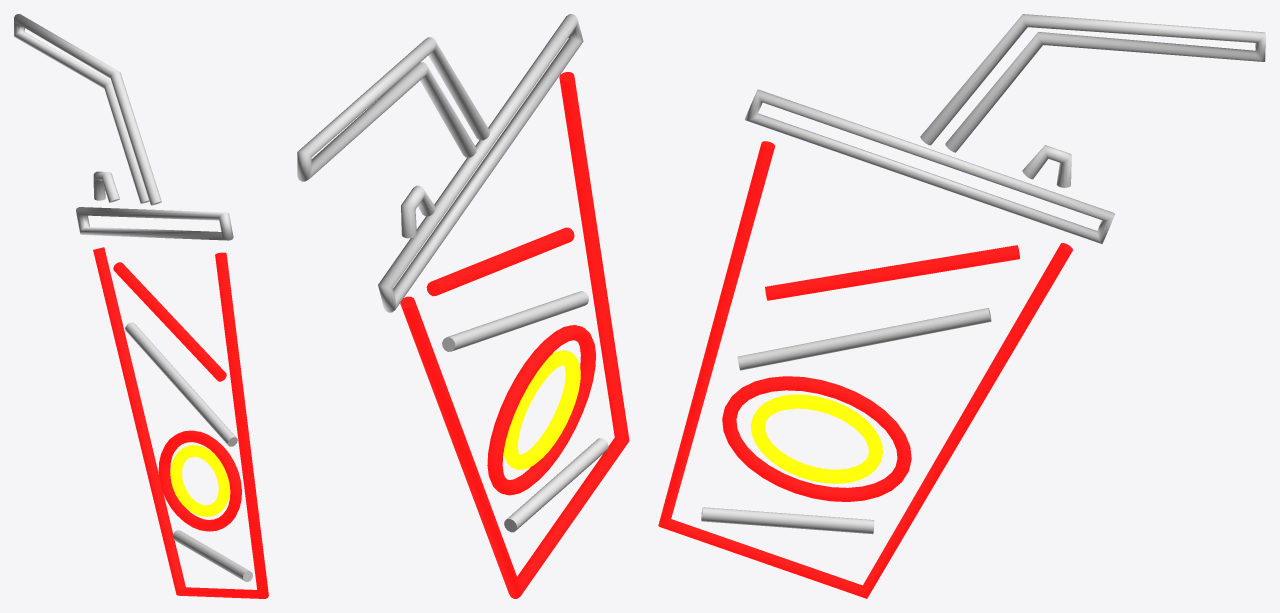
The model's file is Soda.fbx.
3 views of the same model, side by side, from view 1: azimuth 30°, elevation 25°; view 2: azimuth 150°, elevation 25°; view 3: azimuth 270°, elevation 25° (orthographic). The views are drawn at different scales.
Parts seen in each view (by area): view 1: Cube.091; view 2: Cube.091; view 3: Cube.091.
Boxes of the visible parts, x1,y1,x2,y2 form: Cube.091: (14,14,268,598); Cube.091: (297,14,629,598); Cube.091: (658,14,1265,598).
Size of the model in its own units: 2.53 by 107 by 101.
